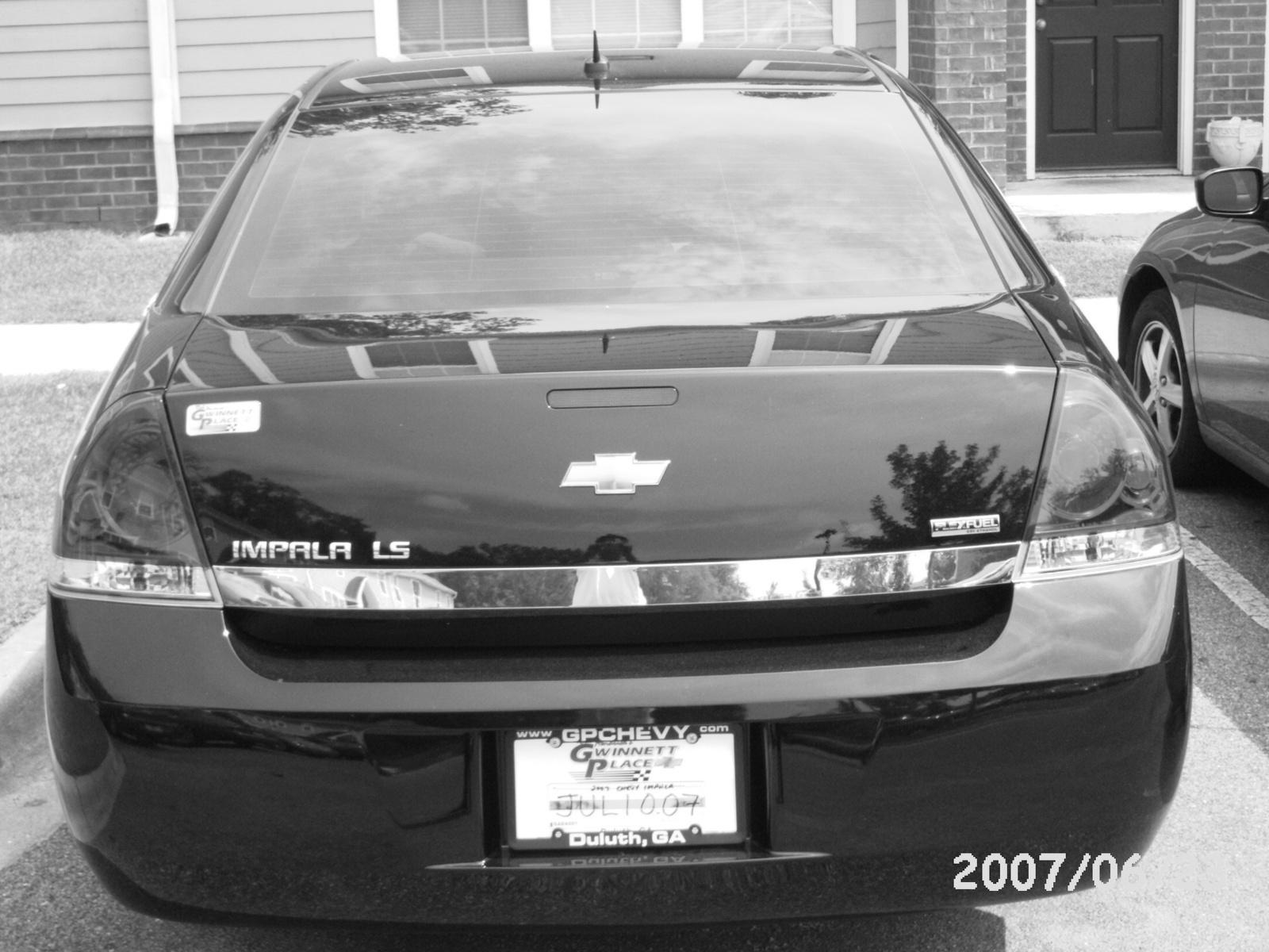car: (48, 46, 1195, 934)
